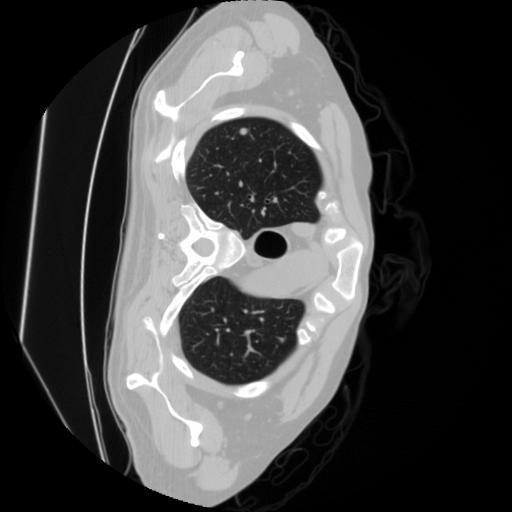nodule: (238, 124, 253, 139)
